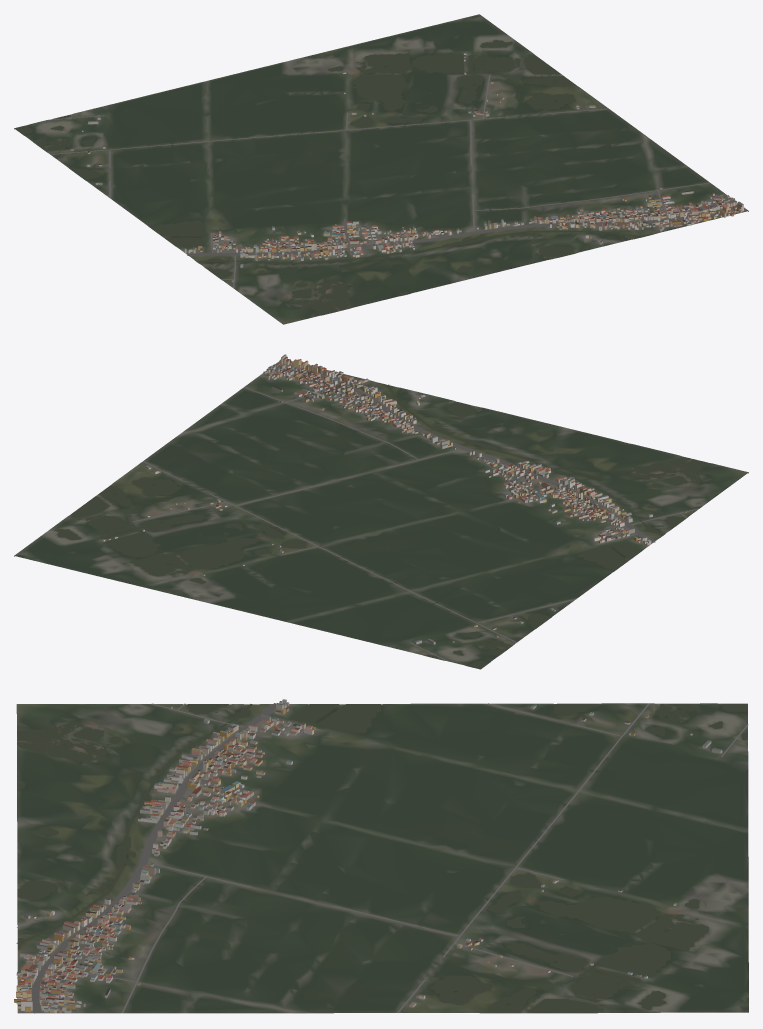
3 views of the same model, one above another, from view 1: azimuth 30°, elevation 25°; view 2: azimuth 150°, elevation 25°; view 3: azimuth 270°, elevation 25° (orthographic). The views are drawn at different scales.
Visible parts, largest first — view 1: ground, water, buildings, roads; view 2: ground, water, buildings, roads; view 3: ground, water, buildings, roads.
Boxes of the visible parts, <box> form: ground: <box>14,14,748,324</box>; water: <box>15,40,652,314</box>; buildings: <box>70,53,743,281</box>; roads: <box>46,74,736,288</box>; ground: <box>14,361,748,669</box>; water: <box>54,382,707,668</box>; buildings: <box>102,354,686,644</box>; roads: <box>133,363,699,661</box>; ground: <box>16,703,748,1013</box>; water: <box>16,703,747,1012</box>; buildings: <box>14,699,722,1013</box>; roads: <box>17,703,748,1013</box>.
Size of the model in its own units: 1408 by 23.24 by 1409.
